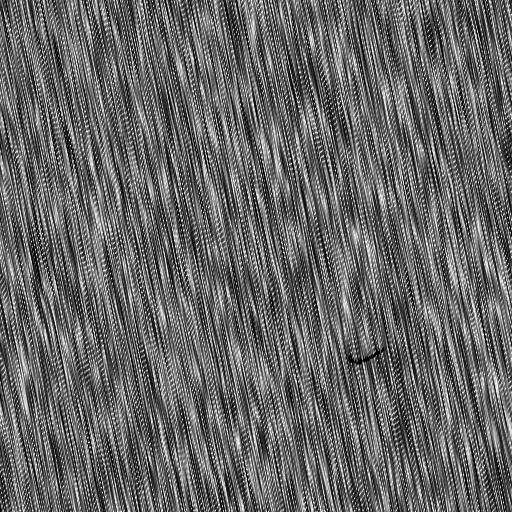DefectTypeC: (349, 347, 386, 365)
